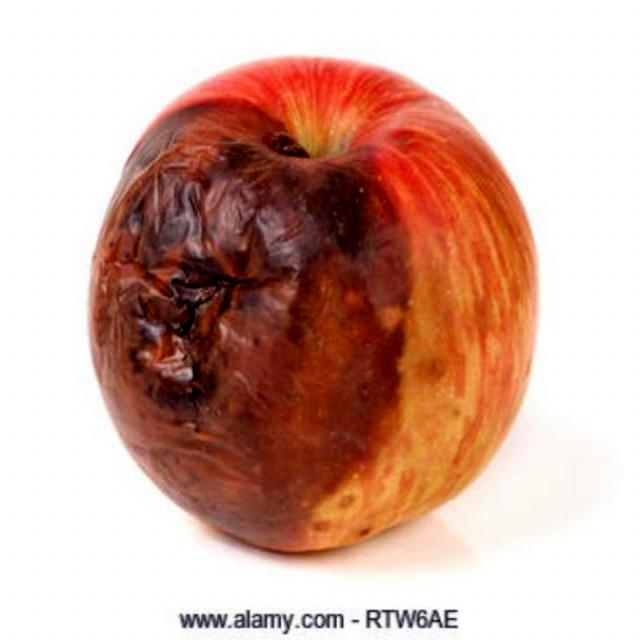ROT: (59, 55, 569, 575)
